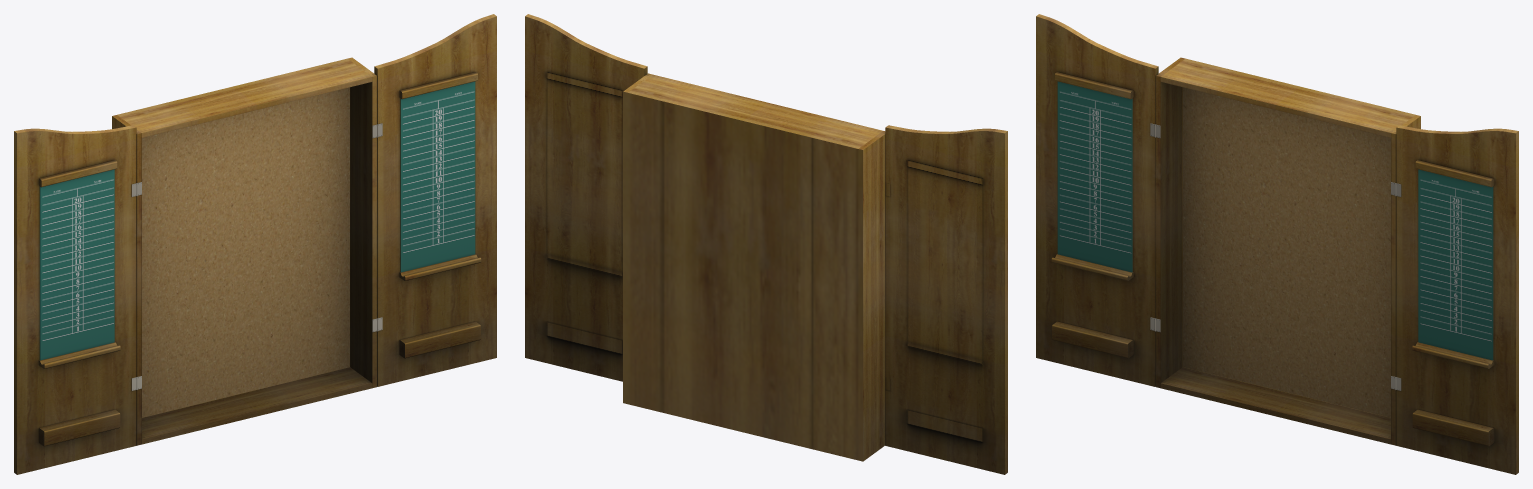
The model's file is DartBoardFrame1.fbx.
The picture shows the model from 3 angles, left to right: view 1: azimuth 30°, elevation 25°; view 2: azimuth 150°, elevation 25°; view 3: azimuth 330°, elevation 25°; orthographic projection.
Visible parts, largest first — view 1: DartBoardFrame_1; view 2: DartBoardFrame_1; view 3: DartBoardFrame_1.
Part boxes in pixels (x1,y1,x2,y2): DartBoardFrame_1: (14, 14, 496, 474); DartBoardFrame_1: (525, 14, 1007, 474); DartBoardFrame_1: (1036, 14, 1518, 474).
Bounding box in the file's own units: 122 × 83.23 × 13.65.
